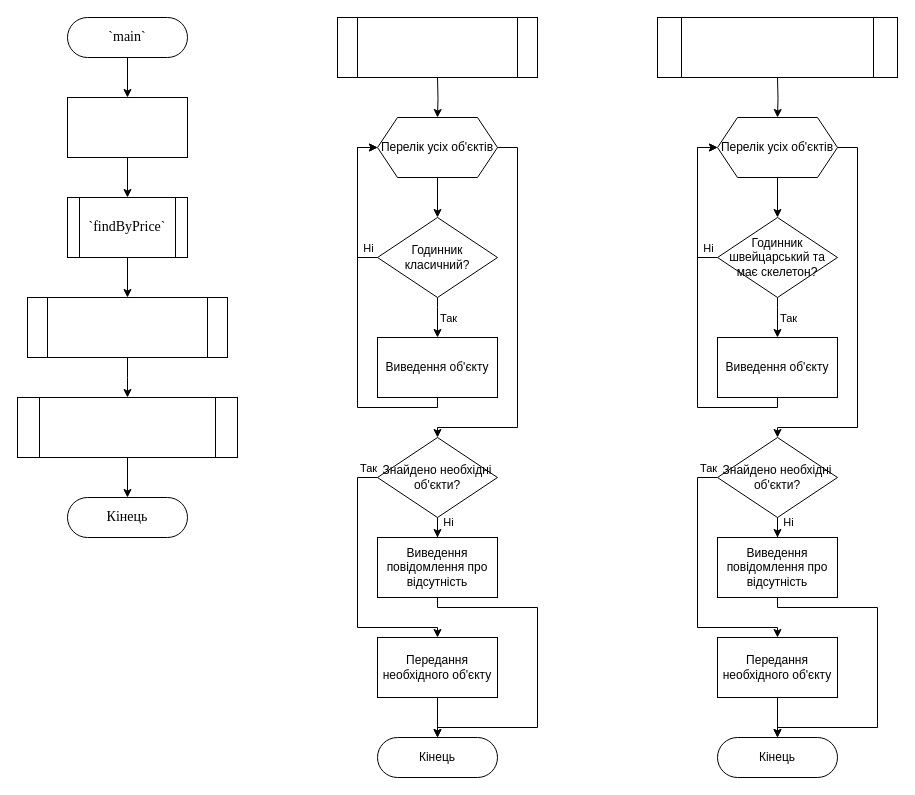
This 915x795 diagram has some shape labels left out. Here are the shapes that lost their labels. From the top down, the box of each, then its label:
(336, 16, 538, 78): `findClassicWatches`
(656, 16, 898, 78): `findSwitzerlandWithSkeleton`
(66, 96, 188, 158): Заповнення списку годинників
(26, 296, 228, 358): ` findClassicWatches `
(16, 396, 238, 458): ` findSwitzerlandWithSkeleton `
